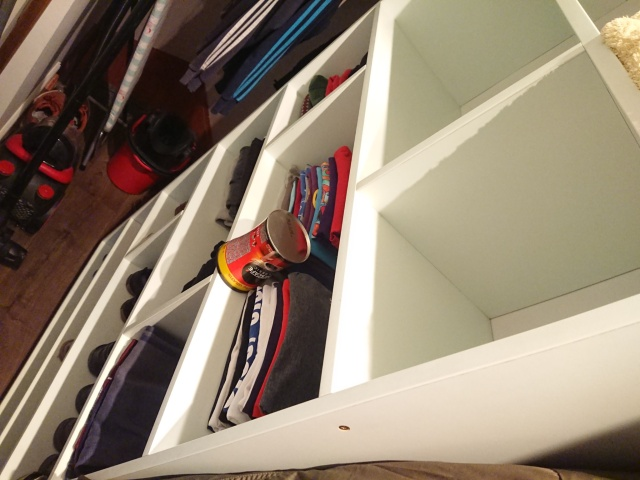Nescafe Classic 225g: (212, 206, 314, 296)
